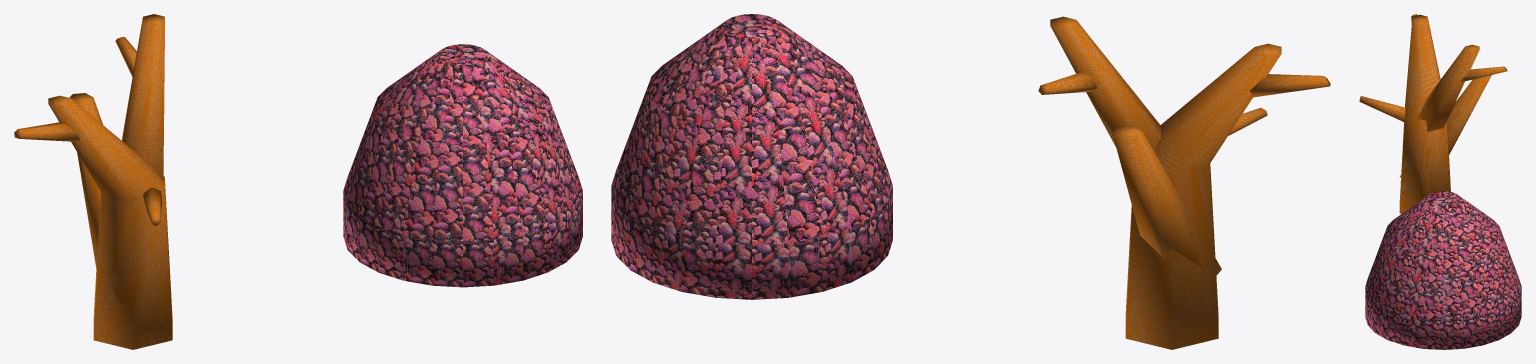
File: coral.dae
The picture shows the model from 3 angles, left to right: view 1: azimuth 30°, elevation 25°; view 2: azimuth 150°, elevation 25°; view 3: azimuth 270°, elevation 25°; orthographic projection. The views are drawn at different scales.
Parts seen in each view (by area): view 1: SketchUp (×2), Component_1 (×5); view 2: SketchUp (×2), Component_1 (×4); view 3: SketchUp (×2), Component_1 (×4).
Part boxes in pixels (<box>): SketchUp (×2): <box>48,44,582,349</box>; Component_1 (×5): <box>14,14,164,302</box>; SketchUp (×2): <box>611,14,1281,349</box>; Component_1 (×4): <box>1038,16,1330,276</box>; SketchUp (×2): <box>1365,14,1521,349</box>; Component_1 (×4): <box>1359,44,1507,177</box>.
Size of the model in its own units: 41.64 by 15.62 by 18.81.
3 materials, 1 textured.
